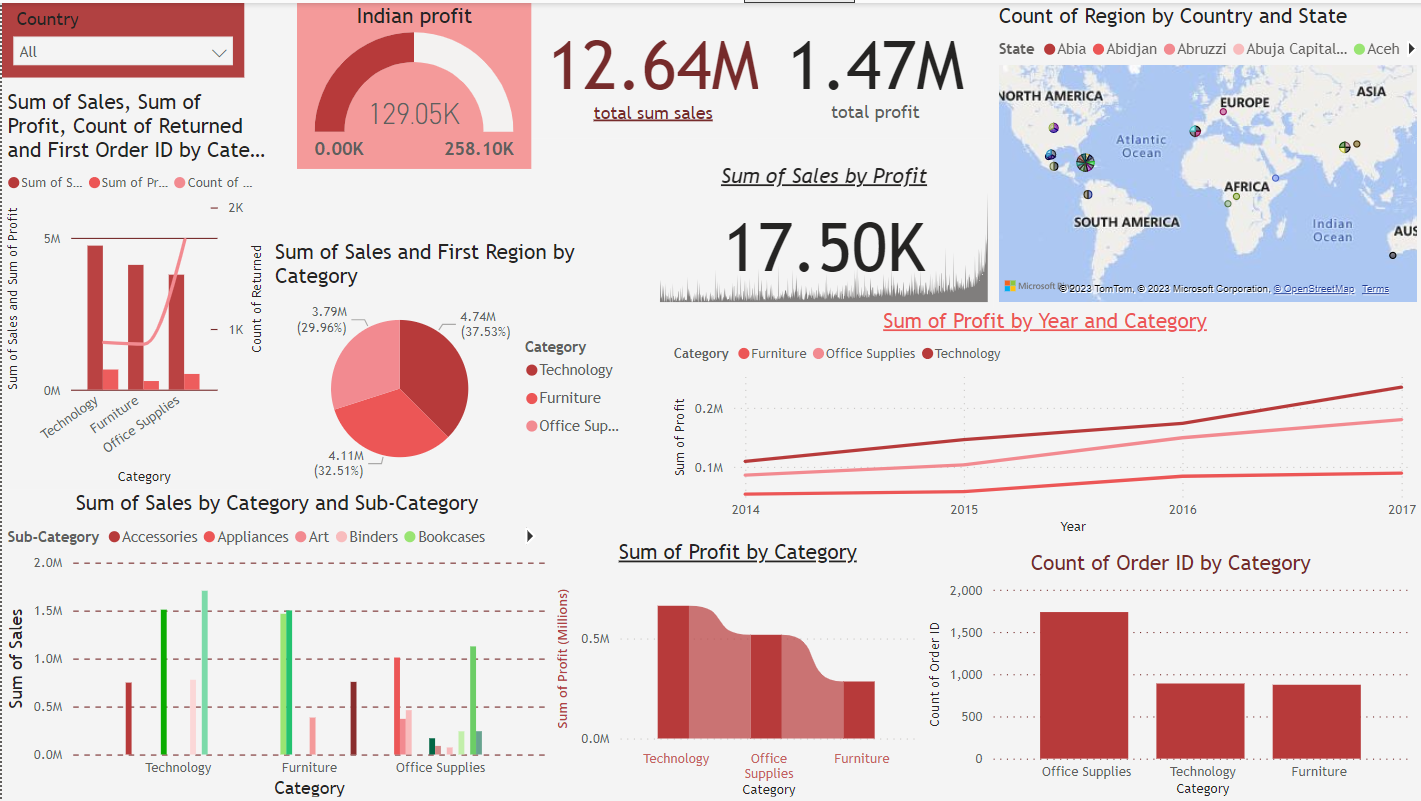

The page's visual inventory and layout, read from the dashboard file:
{"tool":"powerbi","page":{"name":"Page 1","canvas":[1280,720],"ordinal":0},"visuals":[{"type":"pieChart","fields":{"Category":["Orders.Category"],"Y":["Sum(Orders.Sales)"]},"box":[242,257.9,331.3,226.1],"z":0},{"type":"columnChart","fields":{"Category":["Orders.Category"],"Y":["CountNonNull(Returns.Order ID)"]},"box":[830.2,494,446,226.4],"z":1000},{"type":"map","fields":{"Category":["Orders.Country"],"Series":["Orders.State"],"Size":["CountNonNull(People.Region)"]},"box":[864.2,0,415.6,275],"z":2000},{"type":"lineClusteredColumnComboChart","fields":{"Category":["Orders.Category"],"Y":["Sum(Orders.Sales)","Sum(Orders.Profit)"],"Y2":["CountNonNull(Returns.Returned)"]},"box":[0,78.2,242,360.6],"z":3000},{"type":"slicer","fields":{"Values":["Orders.Country"]},"box":[248.1,0,229.8,78.2],"z":4000},{"type":"ribbonChart","fields":{"Category":["Orders.Category"],"Y":["Sum(Orders.Profit)"]},"box":[495.4,483,334.8,237.4],"z":5000},{"type":"kpi","fields":{"Indicator":["Sum(Orders.Sales)"],"TrendLine":["Orders.Profit"]},"box":[503.7,128.5,360.6,130.7],"z":6000},{"type":"card","fields":{"Values":["Orders.total sum sales"]},"box":[477.7,0,203.9,113.8],"z":7000},{"type":"card","fields":{"Values":["Orders.total profit"]},"box":[681.7,0,182.5,121.7],"z":8000},{"type":"gauge","title":"Indian profit","fields":{"Y":["Orders.indian profit"]},"box":[248.1,78.2,229.8,158.9],"z":9000},{"type":"clusteredColumnChart","fields":{"Category":["Orders.Category"],"Y":["Sum(Orders.Sales)"],"Series":["Orders.Sub-Category"]},"box":[0,482.9,495.1,237.1],"z":10000},{"type":"lineChart","fields":{"Category":["Orders.Order Date.Variation.Date Hierarchy.Year","Orders.Order Date.Variation.Date Hierarchy.Quarter","Orders.Order Date.Variation.Date Hierarchy.Month","Orders.Order Date.Variation.Date Hierarchy.Day"],"Y":["Sum(Orders.Profit)"],"Series":["Orders.Category"]},"box":[573.3,275,706.6,207.8],"z":11000},{"type":"textbox","box":[0,0,248.1,78.2],"z":11001}]}

Visuals, with their boxes in screenshot pixels (x1, y1, x2, y2), scaled from the page's 1280x720 canvas onto the 1421x801 screenshot:
pieChart - Orders.Category x Sum(Orders.Sales): 269,287,636,538
columnChart - Orders.Category x CountNonNull(Returns.Order ID): 922,550,1417,800
map - Orders.Country x Orders.State: 959,0,1420,306
lineClusteredColumnComboChart - Orders.Category x Sum(Orders.Sales): 0,87,269,488
slicer - Orders.Country: 275,0,531,87
ribbonChart - Orders.Category x Sum(Orders.Profit): 550,537,922,800
kpi - Sum(Orders.Sales) x Orders.Profit: 559,143,960,288
card - Orders.total sum sales: 530,0,757,127
card - Orders.total profit: 757,0,959,135
"Indian profit" gauge: 275,87,531,264
clusteredColumnChart - Orders.Category x Sum(Orders.Sales): 0,537,550,800
lineChart - Orders.Order Date.Variation.Date Hierarchy.Year x Orders.Order Date.Variation.Date Hierarchy.Quarter: 636,306,1420,537
textbox: 0,0,275,87
